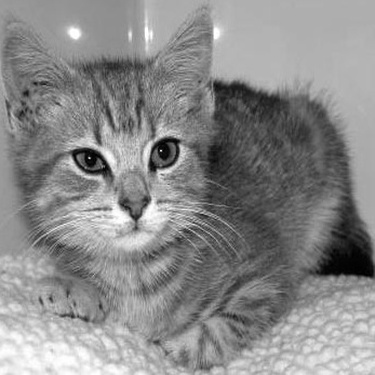cat: (1, 21, 357, 365)
